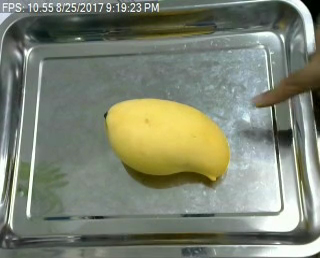Mango: (100, 95, 232, 188)
